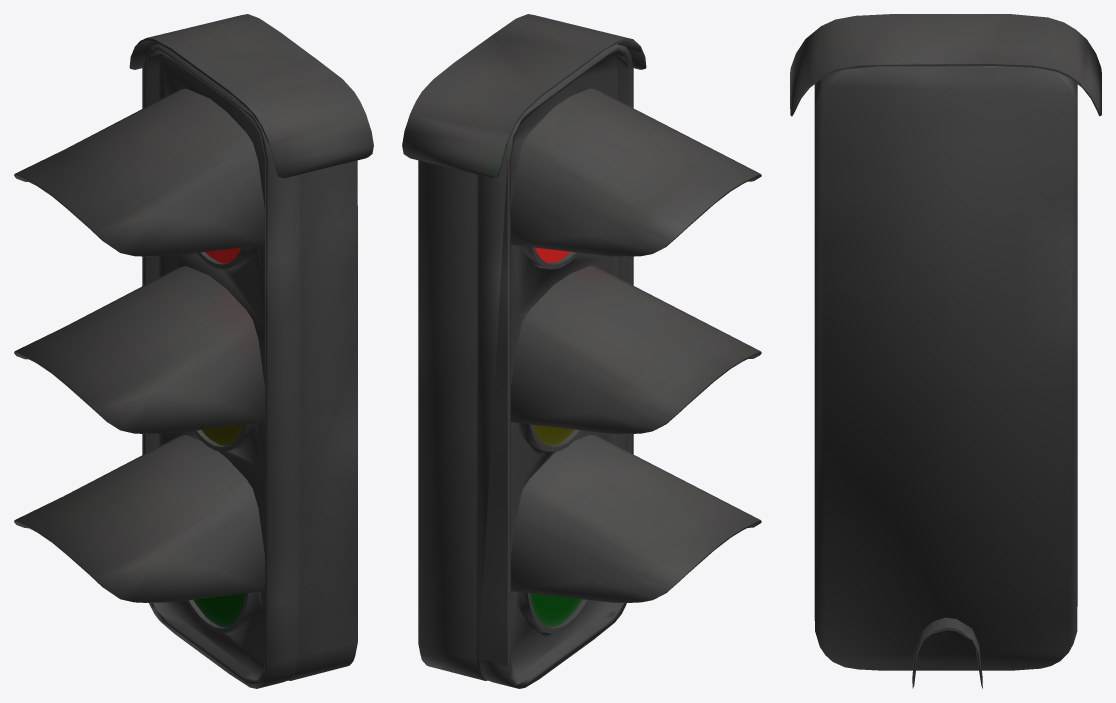
File: traffic_light_red.glb
The picture shows the model from 3 angles, left to right: view 1: azimuth 30°, elevation 25°; view 2: azimuth 150°, elevation 25°; view 3: azimuth 270°, elevation 25°; orthographic projection. The views are drawn at different scales.
Parts seen in each view (by area): view 1: Cube.002__0; view 2: Cube.002__0; view 3: Cube.002__0.
Part boxes in pixels (box(x1,y1,x2,y2)): Cube.002__0: box(14, 14, 373, 688); Cube.002__0: box(402, 14, 761, 688); Cube.002__0: box(790, 14, 1101, 688).
Size of the model in its own units: 0.3376 by 0.6961 by 0.3199.
1 material, 1 textured.
